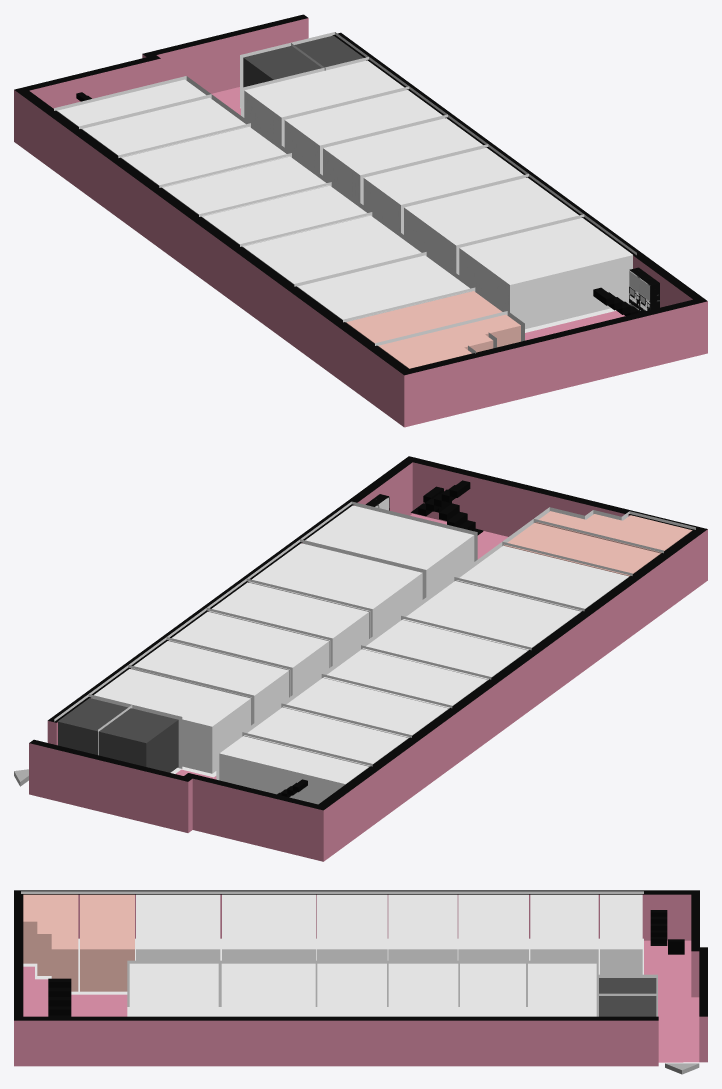
3 renders of one model, top to bottom at view 1: azimuth 30°, elevation 25°; view 2: azimuth 150°, elevation 25°; view 3: azimuth 270°, elevation 25°, orthographic. The views are drawn at different scales.
Parts seen in each view (by area): view 1: object, object_line.009, room_3_2_11, room_3_2_12, room_3_2_2, object_line.003, room_3_2_7, room_3_2_8, room_3_2_9, room_3_2_5, room_3_2_6, object_line.011 (+22 smaller); view 2: object, room_3_2_7, room_3_2_11, room_3_2_12, room_3_2_1, room_3_2_13, object_line.005, object_line.012, object_line.011, エレベーター_3_2_1, room_3_2_5, room_3_2_8 (+22 smaller); view 3: object, room_3_2_2, room_3_2_1, room_3_2_11, トイレ_3_2_2, room_3_2_12, room_3_2_3, room_3_2_5, room_3_2_4, room_3_2_6, トイレ_3_2_1, room_3_2_9 (+23 smaller).
Part boxes in pixels (bbox=[...]): object: bbox=[14, 14, 707, 427]; object_line.009: bbox=[456, 214, 636, 332]; room_3_2_11: bbox=[404, 177, 578, 272]; room_3_2_12: bbox=[459, 218, 632, 311]; room_3_2_2: bbox=[243, 215, 421, 283]; object_line.003: bbox=[294, 251, 474, 322]; room_3_2_7: bbox=[244, 60, 403, 144]; room_3_2_8: bbox=[284, 90, 442, 172]; room_3_2_9: bbox=[323, 118, 482, 202]; room_3_2_5: bbox=[121, 126, 286, 185]; room_3_2_6: bbox=[82, 98, 245, 155]; object_line.011: bbox=[360, 144, 530, 204]; object: bbox=[29, 456, 707, 861]; room_3_2_7: bbox=[94, 670, 250, 773]; room_3_2_11: bbox=[248, 543, 421, 638]; room_3_2_12: bbox=[305, 506, 473, 583]; room_3_2_1: bbox=[456, 546, 628, 611]; room_3_2_13: bbox=[219, 736, 368, 804]; object_line.005: bbox=[361, 616, 531, 677]; object_line.012: bbox=[167, 607, 332, 668]; object_line.011: bbox=[207, 578, 372, 639]; エレベーター_3_2_1: bbox=[57, 710, 177, 772]; room_3_2_5: bbox=[283, 678, 447, 738]; room_3_2_8: bbox=[131, 646, 288, 725]; object: bbox=[14, 890, 707, 1066]; room_3_2_2: bbox=[223, 894, 315, 960]; room_3_2_1: bbox=[137, 894, 220, 960]; room_3_2_11: bbox=[222, 963, 315, 1016]; トイレ_3_2_2: bbox=[81, 894, 134, 991]; room_3_2_12: bbox=[130, 963, 218, 1016]; room_3_2_3: bbox=[317, 894, 387, 960]; room_3_2_5: bbox=[459, 894, 528, 960]; room_3_2_4: bbox=[389, 894, 457, 960]; room_3_2_6: bbox=[531, 894, 598, 974]; トイレ_3_2_1: bbox=[24, 894, 78, 991]; room_3_2_9: bbox=[389, 963, 458, 1016].
Size of the model in its own units: 1.21 by 0.288 by 2.55.
Materials: 34 (7 with a texture image).
